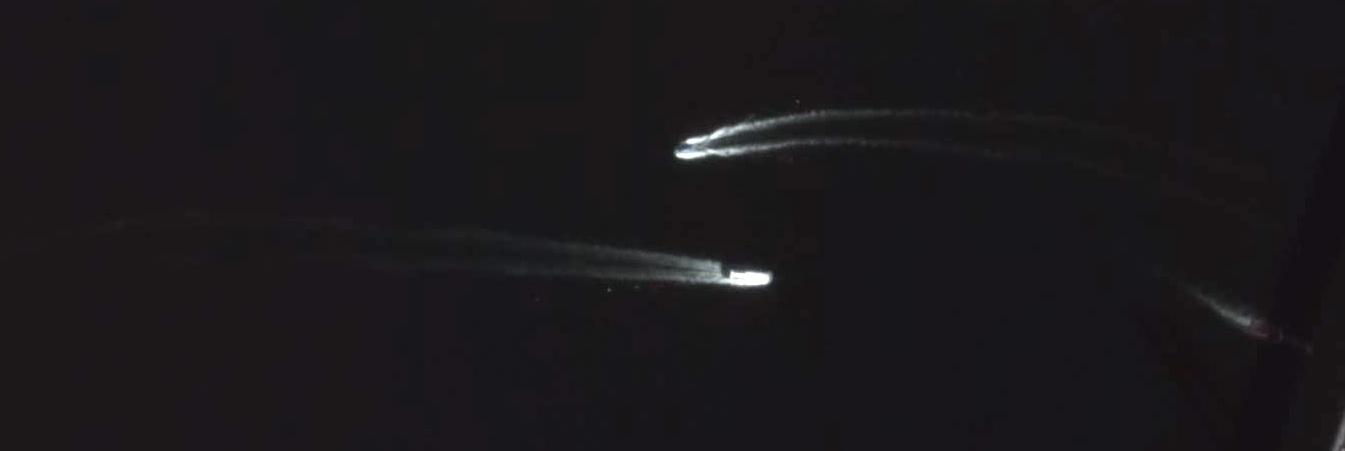person: (1276, 332, 1312, 354), (730, 270, 773, 287), (675, 141, 701, 154)
